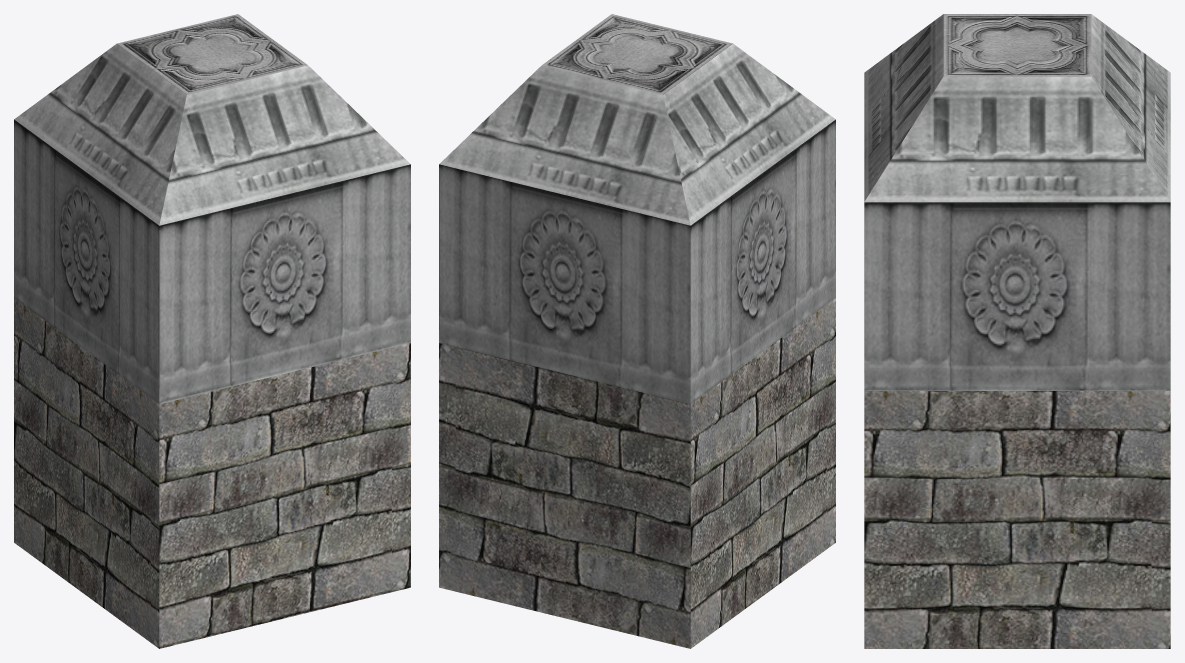
Rendered from CarlosMelendez_Podium.fbx.
The picture shows the model from 3 angles, left to right: view 1: azimuth 30°, elevation 25°; view 2: azimuth 150°, elevation 25°; view 3: azimuth 270°, elevation 25°; orthographic projection. The views are drawn at different scales.
Visible parts, largest first — view 1: pCube5; view 2: pCube5; view 3: pCube5.
Boxes of the visible parts, x1=… form: pCube5: x1=14, y1=14, x2=410, y2=648; pCube5: x1=439, y1=14, x2=835, y2=648; pCube5: x1=864, y1=14, x2=1170, y2=648.
Bounding box in the file's own units: 0.521 × 1.01 × 0.521.
